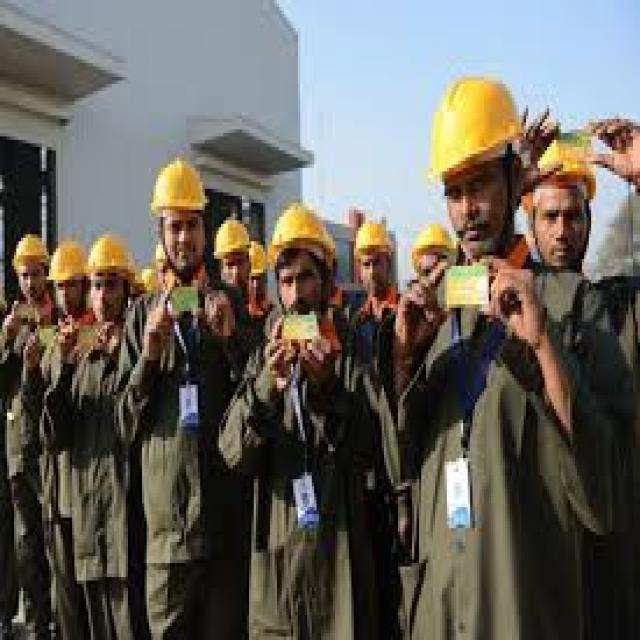safety_helmet: (423, 66, 528, 185), (265, 195, 339, 269), (146, 150, 214, 227), (530, 132, 602, 199), (81, 227, 139, 286), (349, 206, 398, 269), (209, 209, 255, 269), (41, 234, 88, 290), (411, 214, 456, 268), (9, 227, 51, 276)
